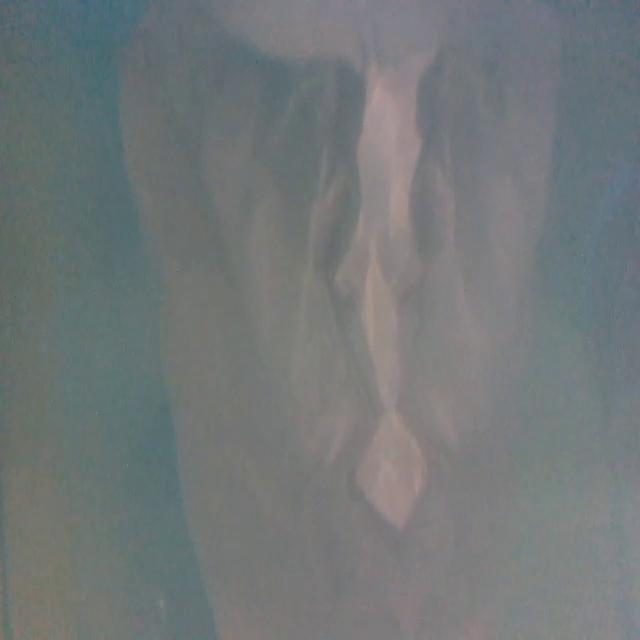plastic bags: (113, 10, 547, 640)
